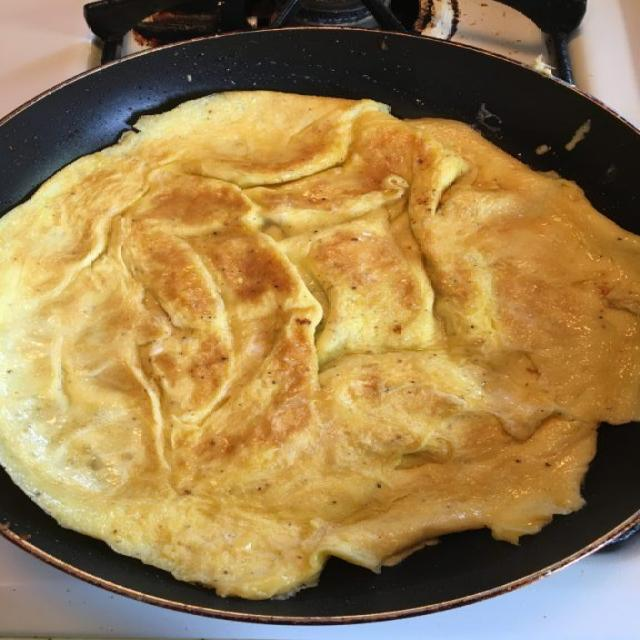omelette: (0, 92, 639, 598)
